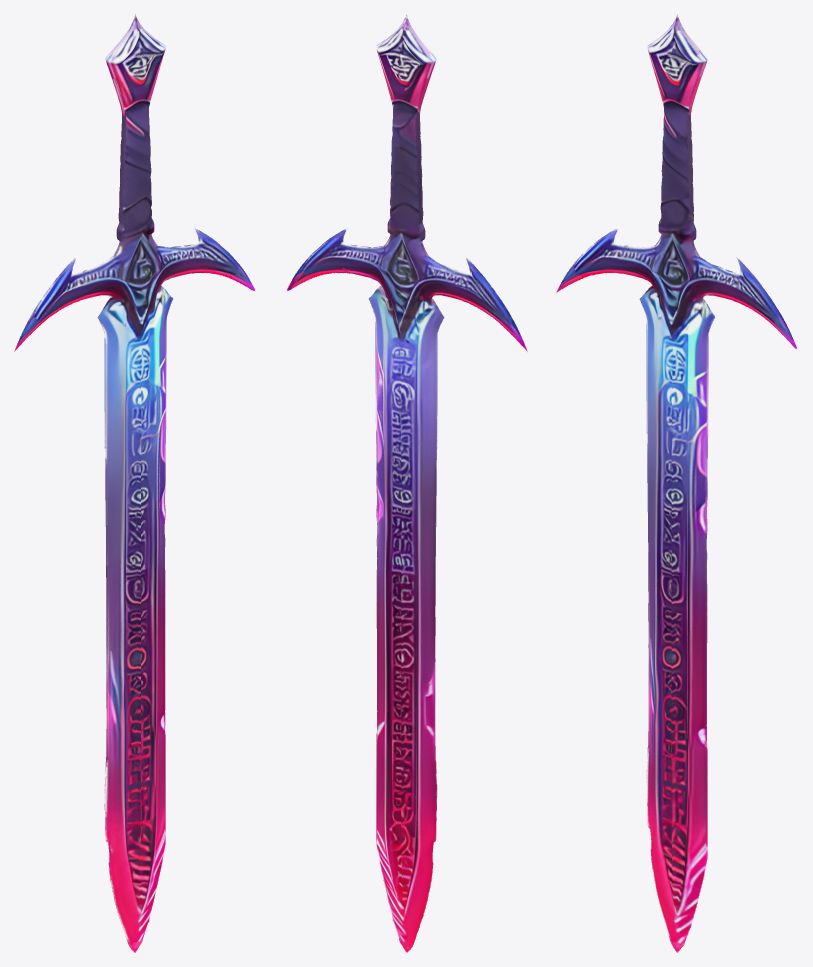
Rendered from Kesir_Silahi.fbx.
3 views of the same model, side by side, from view 1: azimuth 30°, elevation 25°; view 2: azimuth 150°, elevation 25°; view 3: azimuth 330°, elevation 25° (orthographic).
Visible parts, largest first — view 1: model; view 2: model; view 3: model.
Part boxes in pixels (<box>): model: <box>14,14,256,952</box>; model: <box>285,14,527,952</box>; model: <box>556,14,798,952</box>.
Size of the model in its own units: 47.92 by 177 by 5.02.
